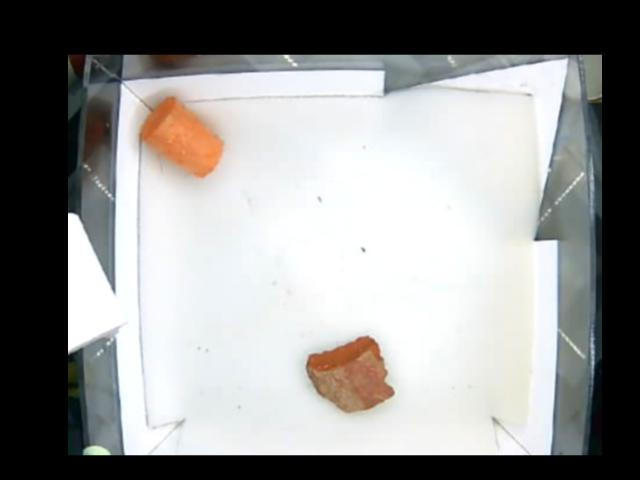Brisk: (306, 335, 397, 415)
Carrot: (140, 94, 225, 179)
